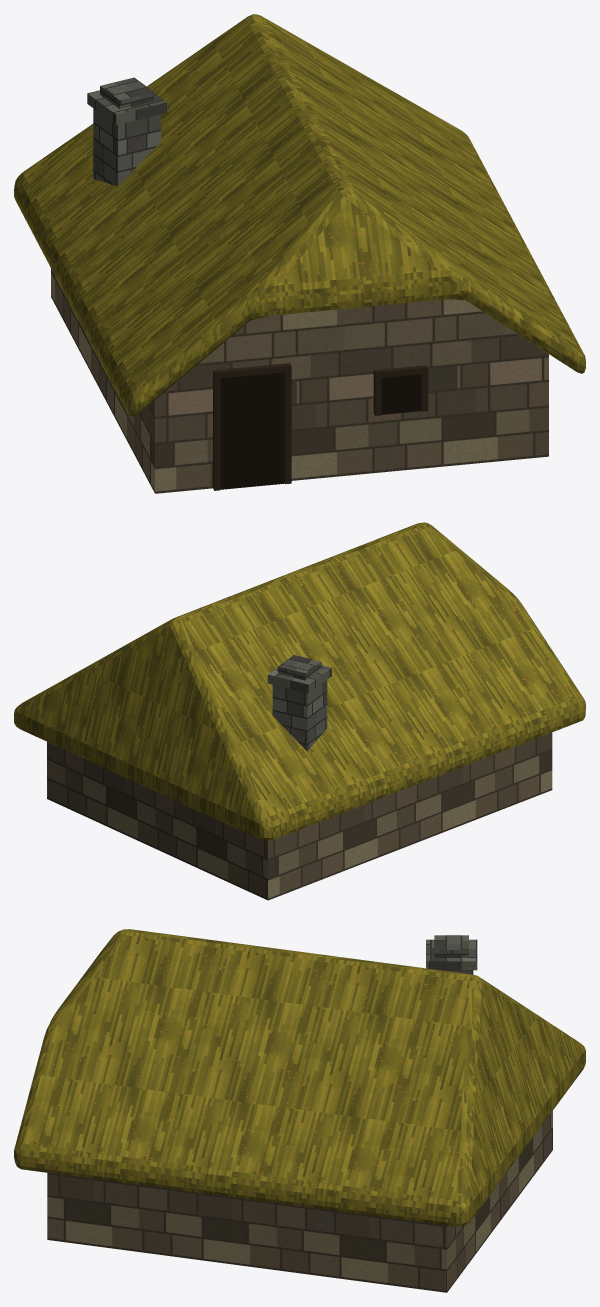
File: AraHut04.glb
3 views of the same model, one above another, from view 1: azimuth 30°, elevation 25°; view 2: azimuth 150°, elevation 25°; view 3: azimuth 270°, elevation 25° (orthographic). The views are drawn at different scales.
Parts seen in each view (by area): view 1: AraHut04_wall; view 2: AraHut04_wall; view 3: AraHut04_wall.
Boxes of the visible parts, x1=… form: AraHut04_wall: x1=14, y1=14, x2=585, y2=493; AraHut04_wall: x1=14, y1=522, x2=585, y2=900; AraHut04_wall: x1=14, y1=929, x2=585, y2=1292.
Size of the model in its own units: 7.33 by 3.69 by 7.92.
5 materials, 3 textured.
